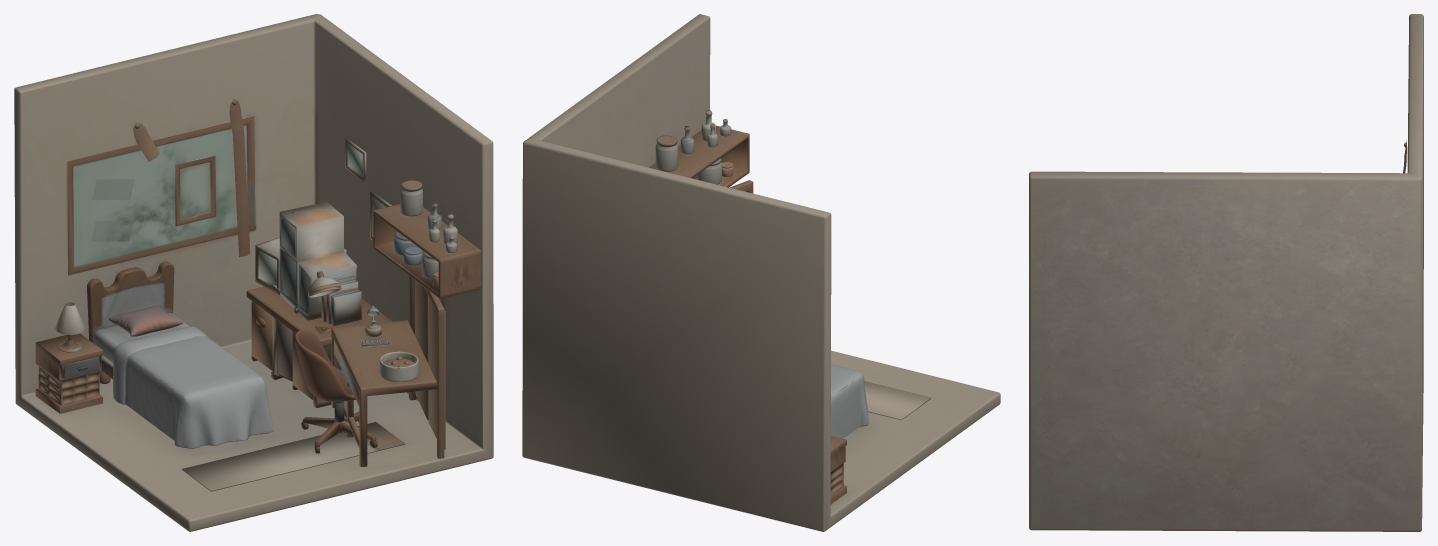
Rendered from floor-tile.glb.
3 renders of one model, left to right at view 1: azimuth 30°, elevation 25°; view 2: azimuth 150°, elevation 25°; view 3: azimuth 270°, elevation 25°, orthographic. The views are drawn at different scales.
Parts seen in each view (by area): view 1: tripo_node_a869cf15-ca43-452e-8cd9-8b651faf2227; view 2: tripo_node_a869cf15-ca43-452e-8cd9-8b651faf2227; view 3: tripo_node_a869cf15-ca43-452e-8cd9-8b651faf2227.
Boxes of the visible parts, x1,y1,x2,y2 form: tripo_node_a869cf15-ca43-452e-8cd9-8b651faf2227: (14,14,493,531); tripo_node_a869cf15-ca43-452e-8cd9-8b651faf2227: (522,14,1000,531); tripo_node_a869cf15-ca43-452e-8cd9-8b651faf2227: (1029,14,1423,531).
Bounding box in the file's own units: 0.9985 × 0.9927 × 0.9995.
1 material, 1 textured.
